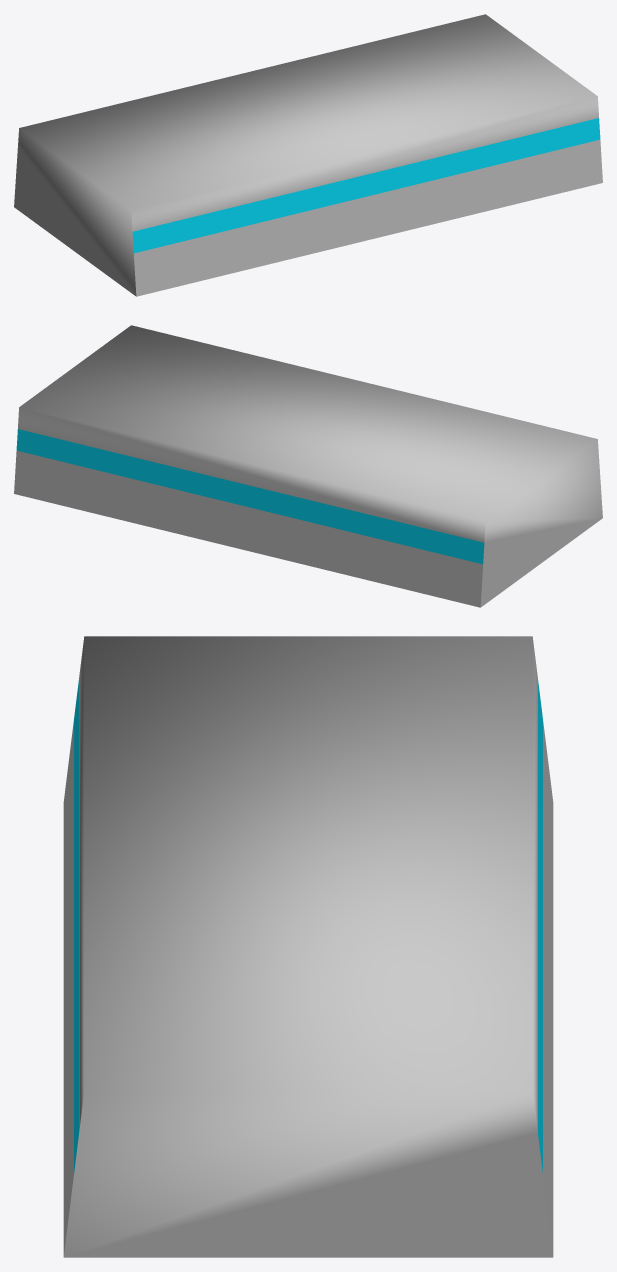
3 renders of one model, top to bottom at view 1: azimuth 30°, elevation 25°; view 2: azimuth 150°, elevation 25°; view 3: azimuth 270°, elevation 25°, orthographic. The views are drawn at different scales.
Visible parts, largest first — view 1: 6e67fc38-4ee1-411f-b622-e8eb4def3949; view 2: 6e67fc38-4ee1-411f-b622-e8eb4def3949; view 3: 6e67fc38-4ee1-411f-b622-e8eb4def3949.
Part boxes in pixels (x1=…): 6e67fc38-4ee1-411f-b622-e8eb4def3949: x1=14, y1=14, x2=602, y2=296; 6e67fc38-4ee1-411f-b622-e8eb4def3949: x1=14, y1=325, x2=602, y2=607; 6e67fc38-4ee1-411f-b622-e8eb4def3949: x1=63, y1=636, x2=553, y2=1257.
Bounding box in the file's own units: 7874 × 1336 × 3577.
